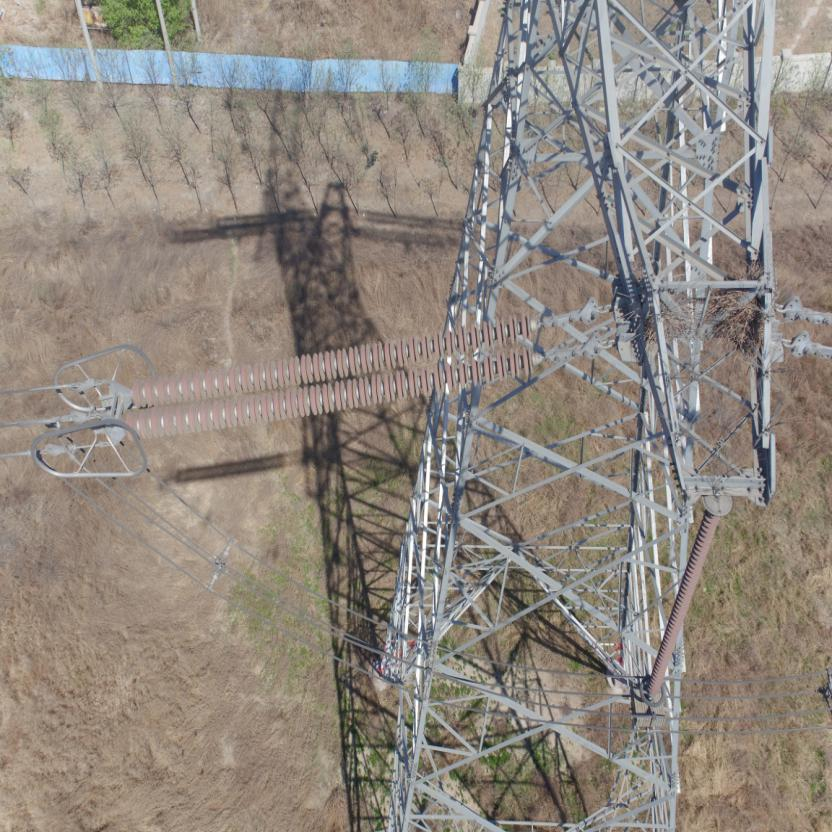insulator: (119, 310, 576, 444)
